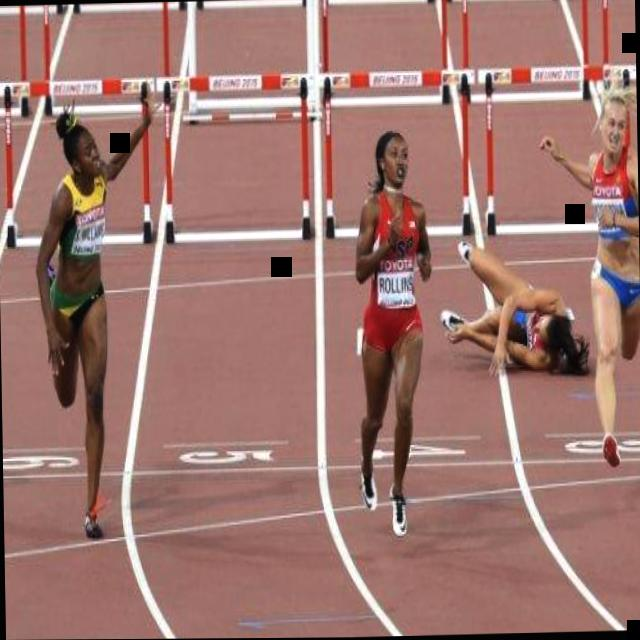Fall-Detected: (429, 229, 589, 389)
